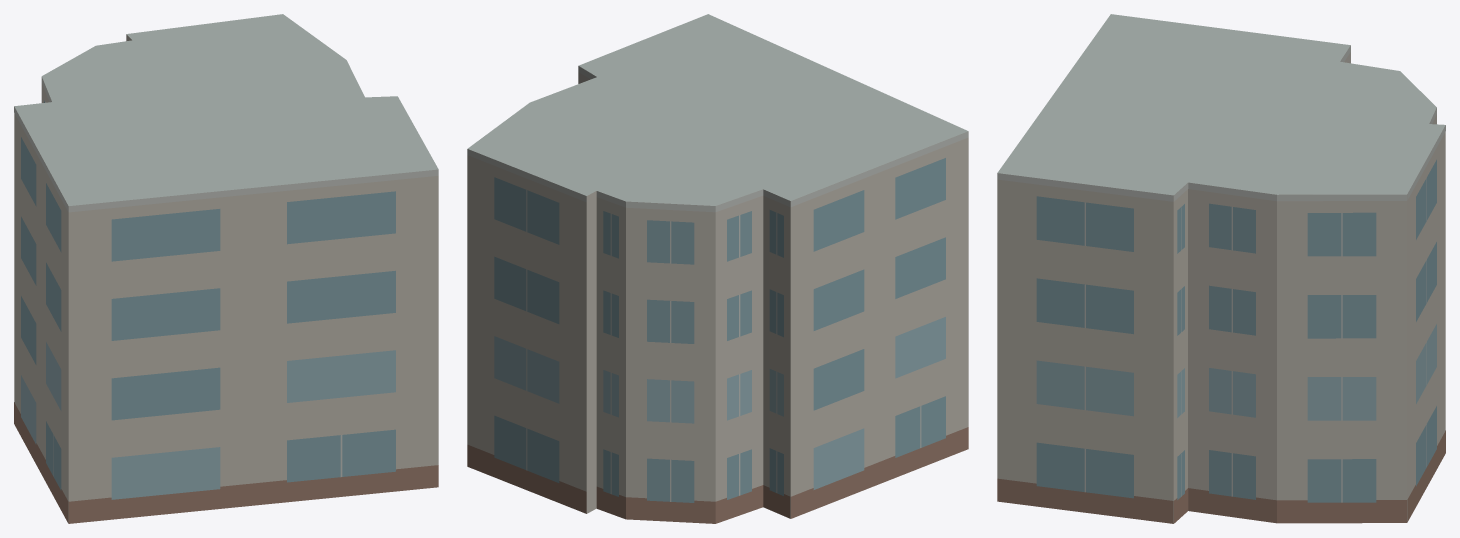
The model's file is survey-upis-32810302.glb.
3 renders of one model, left to right at view 1: azimuth 30°, elevation 25°; view 2: azimuth 150°, elevation 25°; view 3: azimuth 270°, elevation 25°, orthographic. The views are drawn at different scales.
Visible parts, largest first — view 1: survey-upis-32810302.tmp; view 2: survey-upis-32810302.tmp; view 3: survey-upis-32810302.tmp.
Boxes of the visible parts, <box> form: survey-upis-32810302.tmp: <box>14,14,438,523</box>; survey-upis-32810302.tmp: <box>467,14,968,523</box>; survey-upis-32810302.tmp: <box>997,14,1445,523</box>.
Size of the model in its own units: 14.7 by 12.4 by 15.36.
